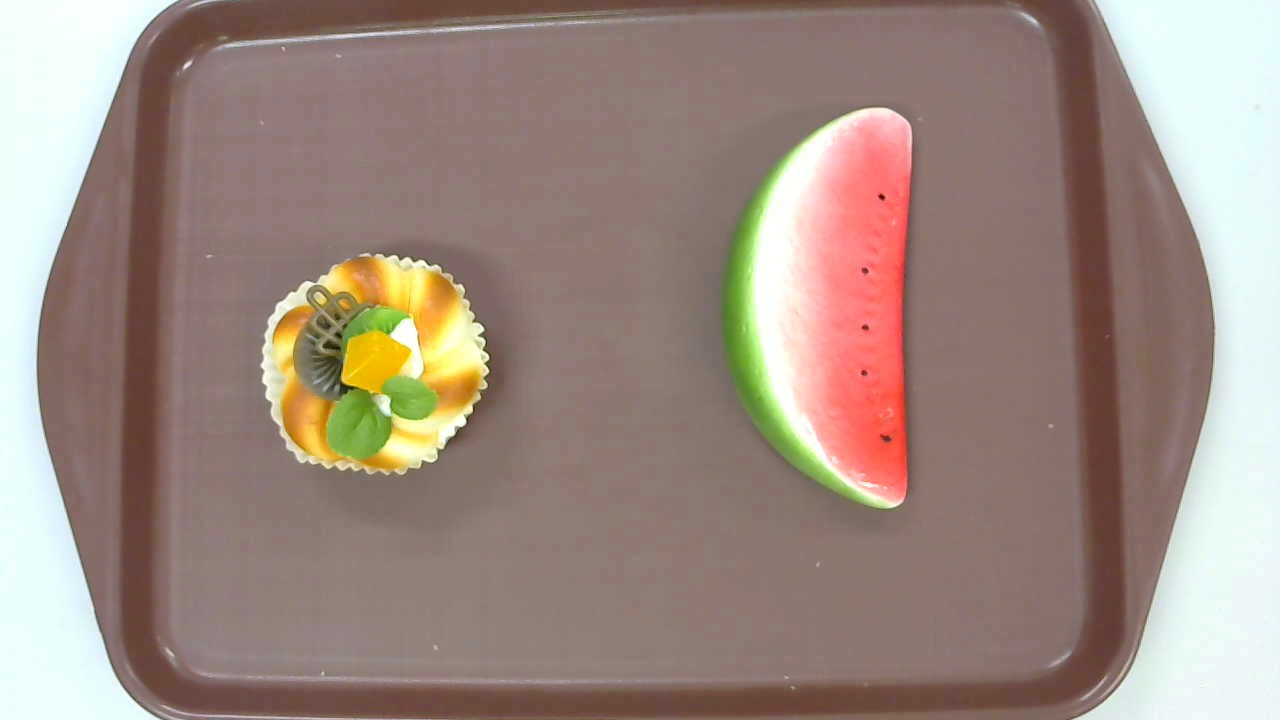fruit tart: (260, 253, 491, 478)
water melon: (719, 107, 913, 509)
